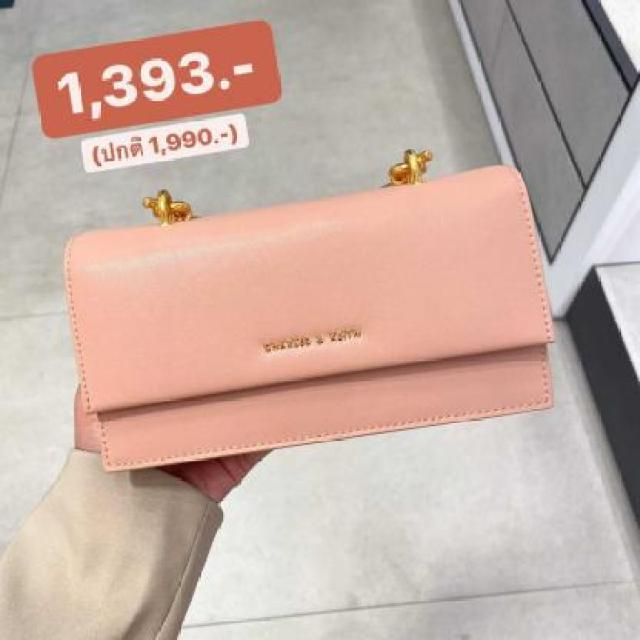Bag: (4, 167, 633, 496)
